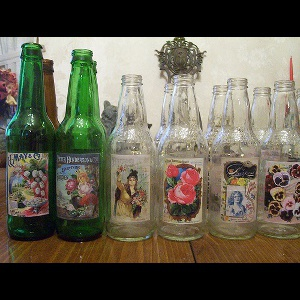emptybottle: (53, 48, 105, 242), (6, 43, 56, 242), (155, 75, 210, 243), (207, 79, 260, 240), (107, 74, 153, 243), (254, 81, 298, 240)
